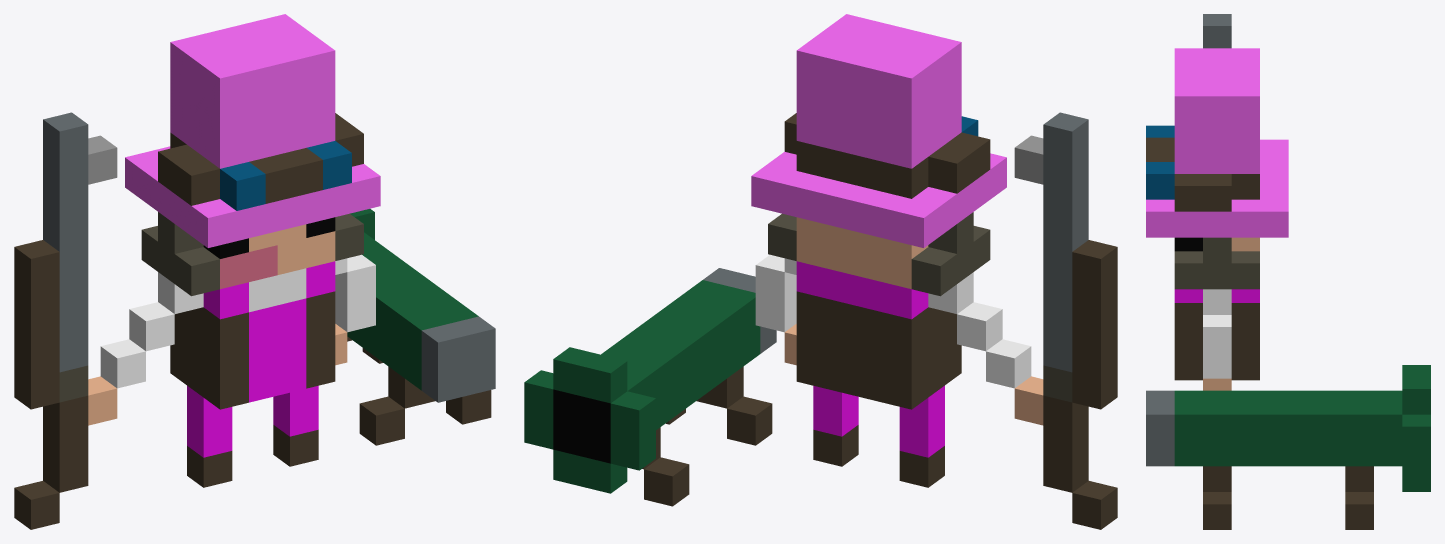
Rendered from infantry.obj.
The picture shows the model from 3 angles, left to right: view 1: azimuth 30°, elevation 25°; view 2: azimuth 150°, elevation 25°; view 3: azimuth 270°, elevation 25°; orthographic projection. The views are drawn at different scales.
Bounding box in the file's own units: 1.6 × 1.4 × 1.
1 material, 1 textured.
